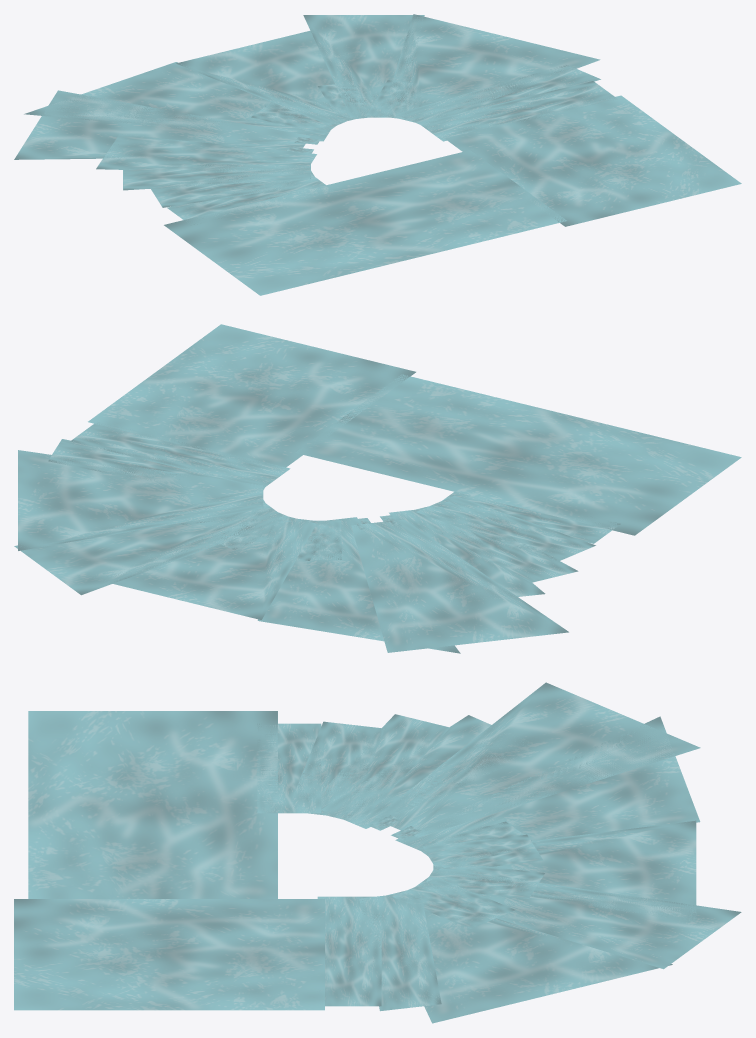
The model's file is LV4Nav.fbx.
The picture shows the model from 3 angles, top to bottom: view 1: azimuth 30°, elevation 25°; view 2: azimuth 150°, elevation 25°; view 3: azimuth 270°, elevation 25°; orthographic projection. The views are drawn at different scales.
Visible parts, largest first — view 1: polySurface215; view 2: polySurface215; view 3: polySurface215.
Boxes of the visible parts, x1,y1,x2,y2 form: polySurface215: (14, 14, 741, 295); polySurface215: (14, 324, 741, 653); polySurface215: (14, 682, 741, 1023).
Bounding box in the file's own units: 937 × 0 × 845.
